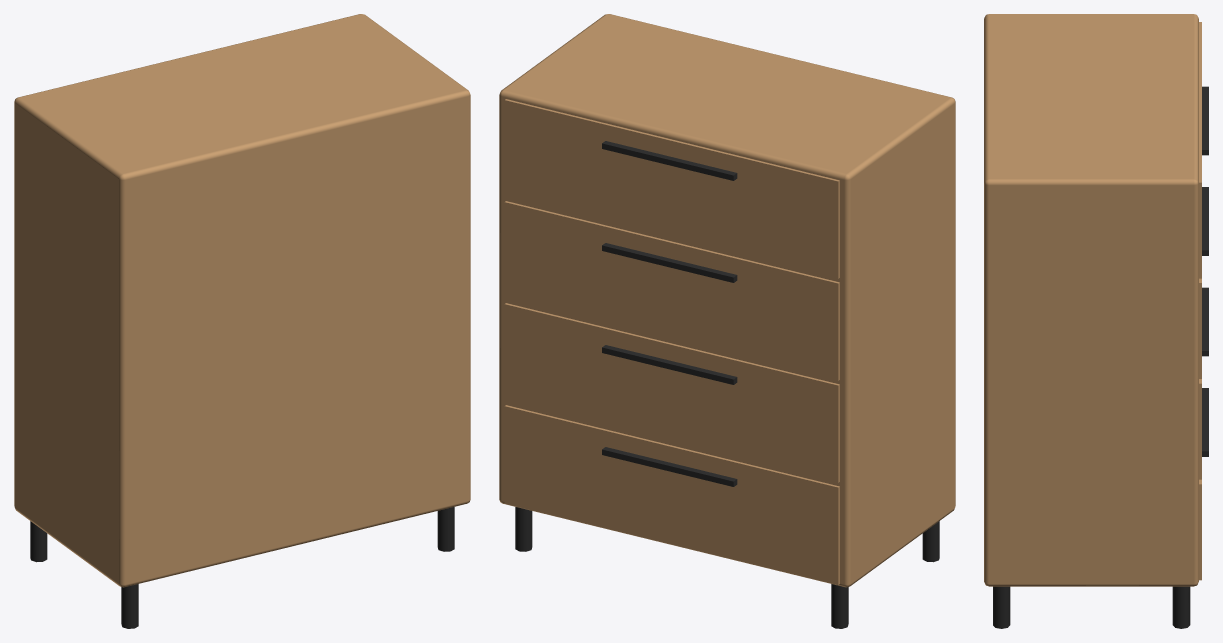
3 renders of one model, left to right at view 1: azimuth 30°, elevation 25°; view 2: azimuth 150°, elevation 25°; view 3: azimuth 270°, elevation 25°, orthographic.
Visible parts, largest first — view 1: body, leg-3, leg-4; view 2: body, drawer-1, drawer-3, drawer-2, drawer-4, handle-1, handle-3, handle-4, handle-2, leg-1, leg-2; view 3: body, leg-2, drawer-4, leg-4, handle-2, handle-4, handle-1, handle-3.
Boxes of the visible parts, x1,y1,x2,y2 form: body: (14, 14, 470, 587); leg-3: (121, 584, 138, 628); leg-4: (437, 507, 454, 551); body: (499, 14, 955, 587); drawer-1: (504, 405, 839, 584); drawer-3: (504, 201, 839, 380); drawer-2: (504, 303, 839, 482); drawer-4: (504, 99, 839, 278); handle-1: (602, 447, 737, 486); handle-3: (602, 243, 737, 282); handle-4: (602, 141, 737, 180); handle-2: (602, 345, 737, 384); leg-1: (831, 584, 848, 628); leg-2: (515, 507, 532, 551); body: (984, 14, 1198, 586); leg-2: (1172, 586, 1190, 628); drawer-4: (1199, 22, 1201, 278); leg-4: (993, 586, 1010, 628); handle-2: (1202, 287, 1208, 356); handle-4: (1202, 86, 1208, 155); handle-1: (1202, 388, 1208, 456); handle-3: (1202, 187, 1208, 255).
Bounding box in the file's own units: 0.8 × 1 × 0.45.
